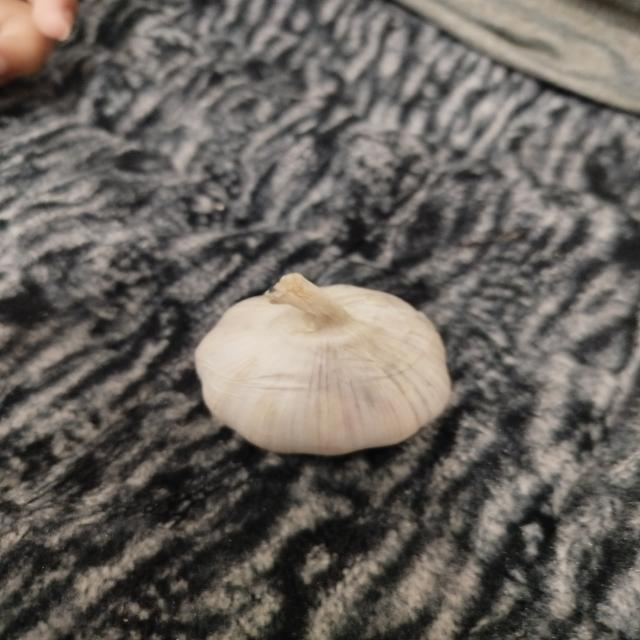garlic: (193, 272, 452, 456)
